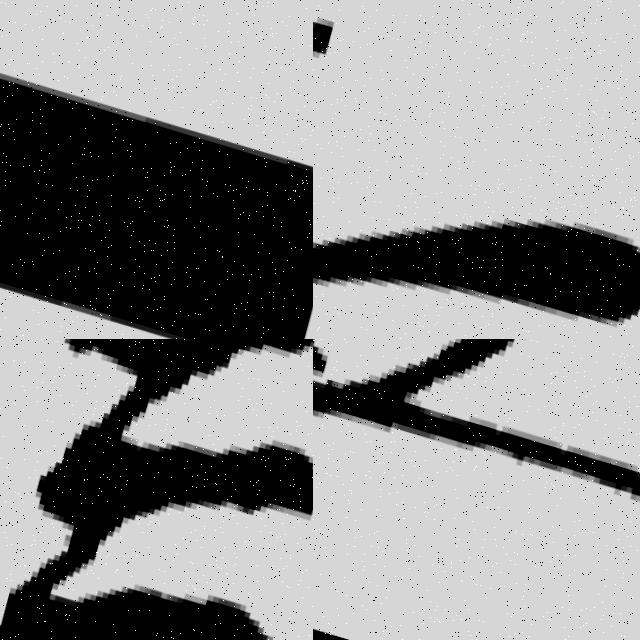7: (313, 0, 640, 339)
L: (0, 8, 313, 339)
M: (0, 339, 313, 640)
Q: (313, 339, 640, 639)
